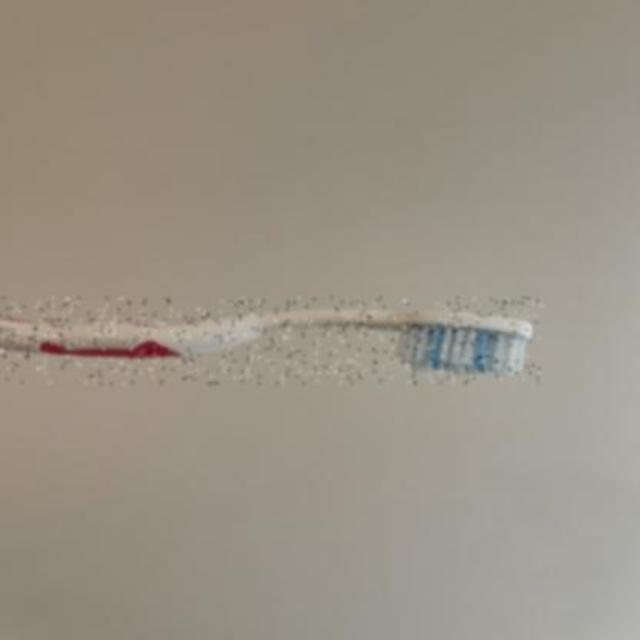toothbrush: (1, 298, 544, 384)
